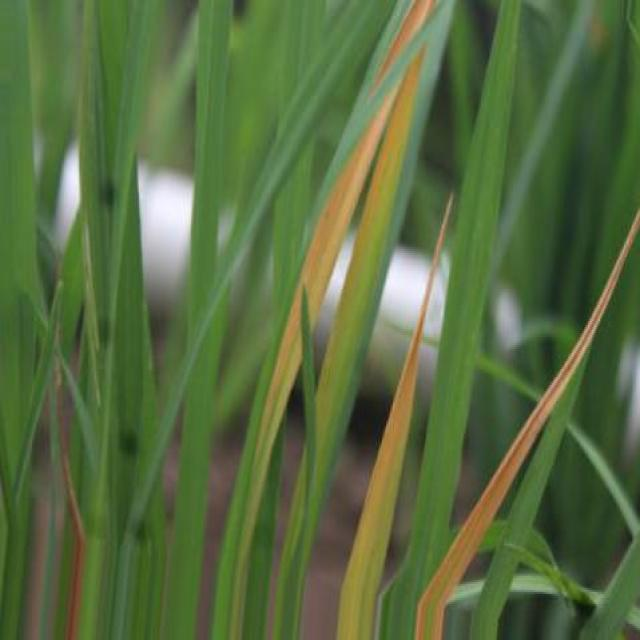Rice Tungro: (218, 84, 399, 637), (415, 210, 640, 639), (336, 195, 452, 639), (375, 2, 435, 89)
